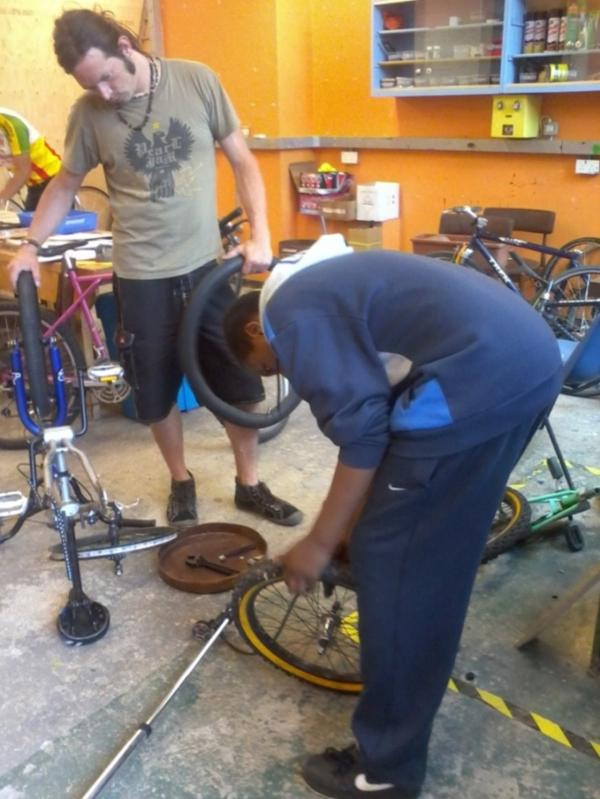person: (223, 239, 563, 799)
